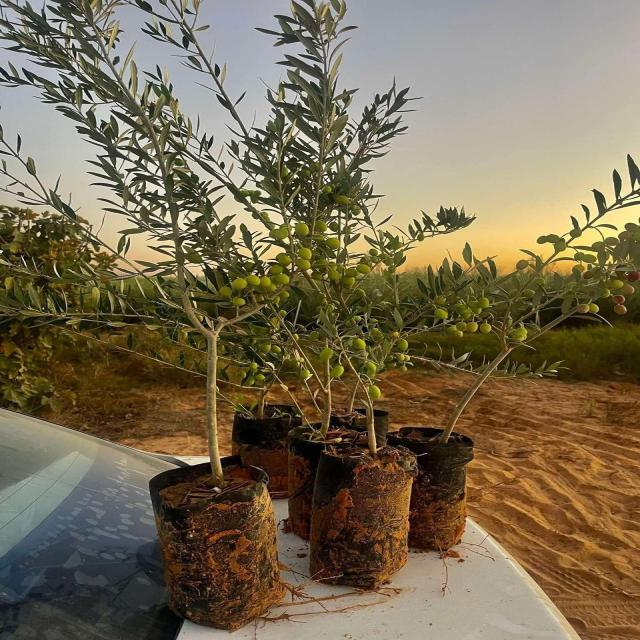Healthy: (295, 222, 309, 236), (368, 385, 381, 399), (232, 278, 247, 290), (298, 248, 312, 260), (320, 348, 333, 360), (246, 274, 260, 285), (356, 264, 371, 274), (297, 259, 310, 270), (275, 274, 289, 284), (479, 323, 491, 334), (613, 294, 625, 304), (614, 305, 627, 314), (221, 286, 232, 296)
